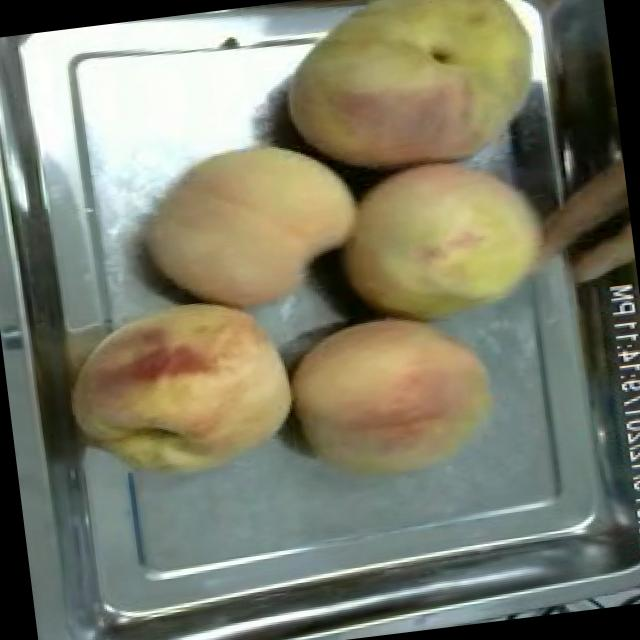Fruit: (261, 0, 575, 201), (52, 280, 310, 498), (127, 122, 375, 330), (316, 143, 570, 346), (273, 294, 514, 498)
